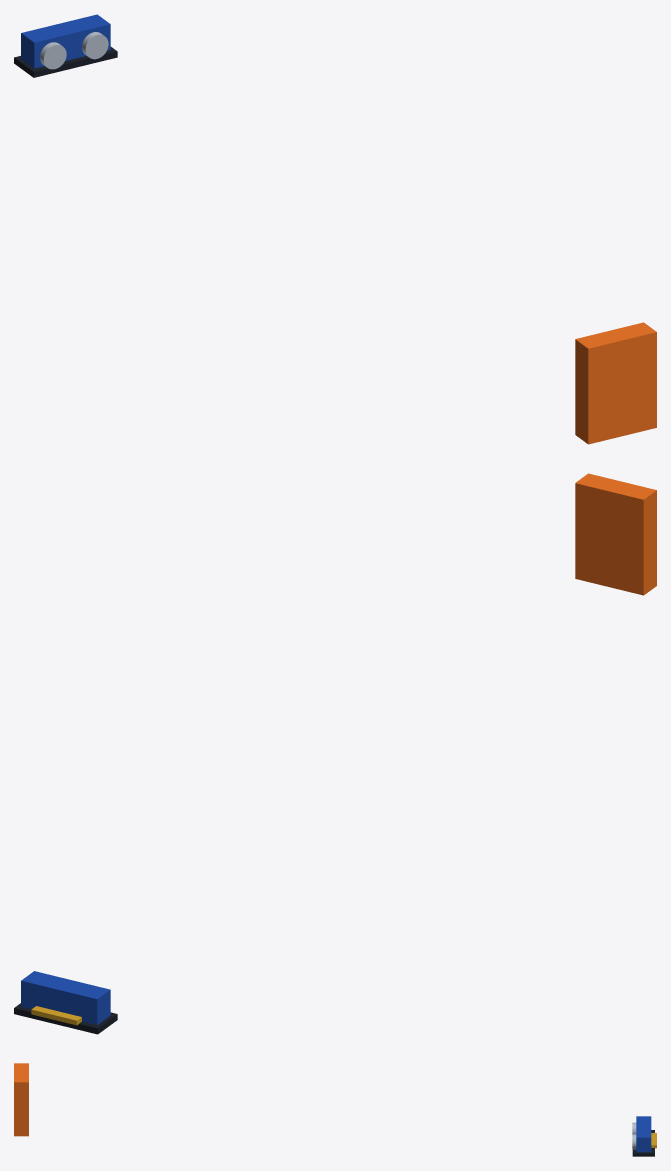
File: virtual.glb
The picture shows the model from 3 angles, top to bottom: view 1: azimuth 30°, elevation 25°; view 2: azimuth 150°, elevation 25°; view 3: azimuth 270°, elevation 25°; orthographic projection. The views are drawn at different scales.
Visible parts, largest first — view 1: Target, Body, Mount; view 2: Target, Body; view 3: Target, Body.
Part boxes in pixels (left/top/right/bottom): Target: left=575, top=322, right=656, bottom=444; Body: left=21, top=14, right=110, bottom=68; Mount: left=14, top=47, right=117, bottom=77; Target: left=575, top=473, right=656, bottom=595; Body: left=21, top=971, right=110, bottom=1024; Target: left=14, top=1063, right=28, bottom=1136; Body: left=636, top=1116, right=651, bottom=1152.
Size of what is drawn, in the model's own units: 0.22 by 0.32 by 2.58.
